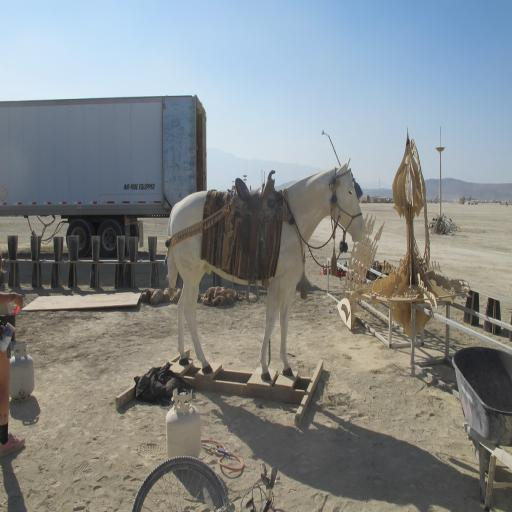horse: (166, 164, 366, 383)
